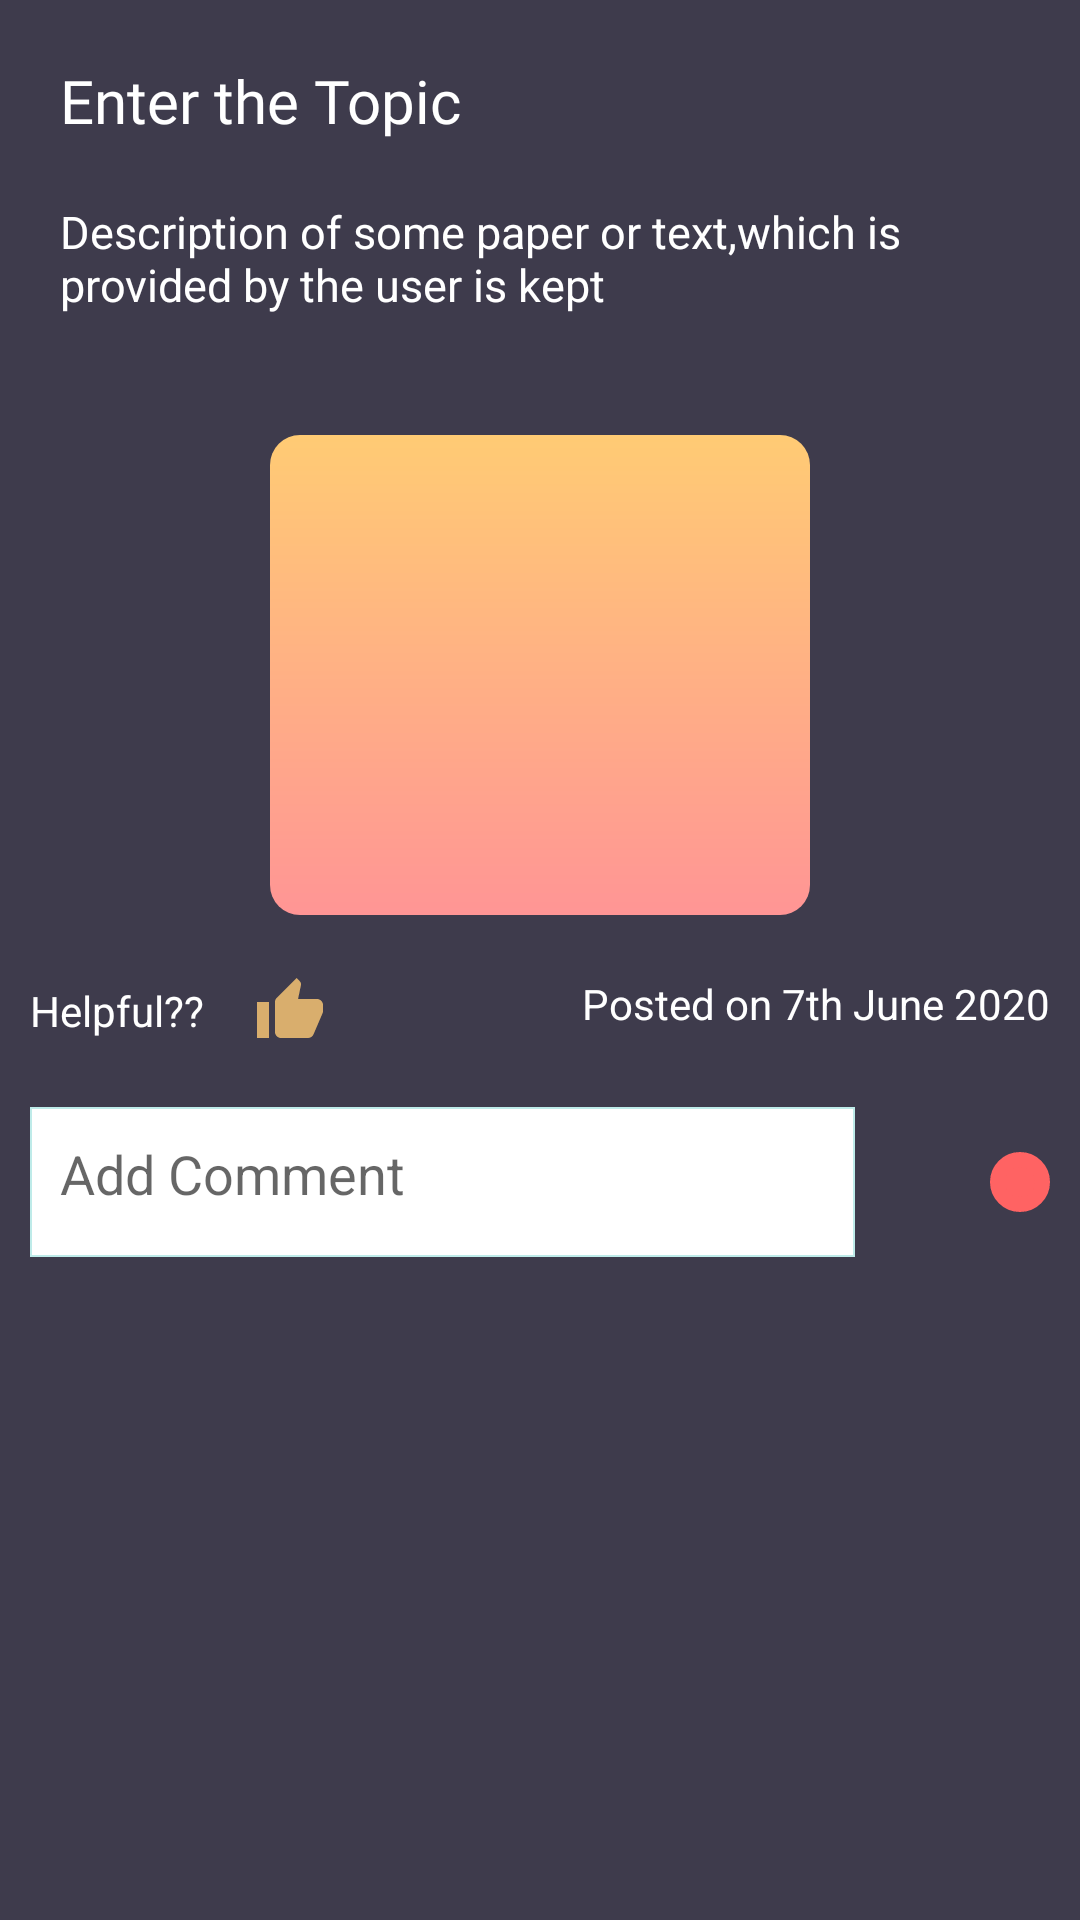

Locate icon controls on the screen. Image size 1080*1920, boxes as {"x1": x1, "y1": y1, "x2": x2, "y2": y2}.
thumbs: {"x1": 257, "y1": 978, "x2": 323, "y2": 1038}
